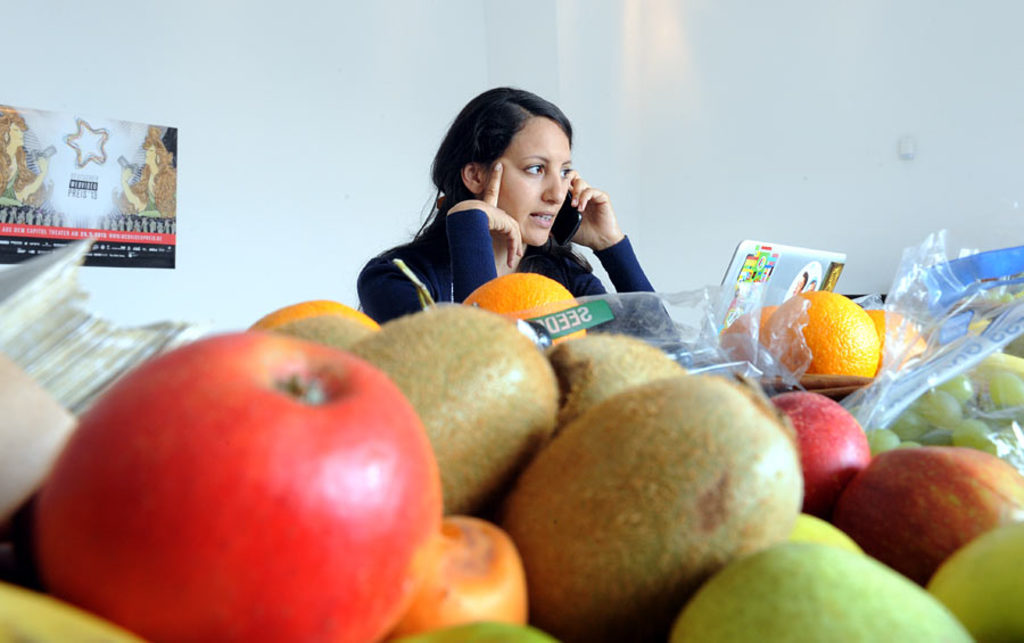Apple: (30, 320, 460, 633), (832, 446, 1022, 591), (769, 392, 868, 518)
